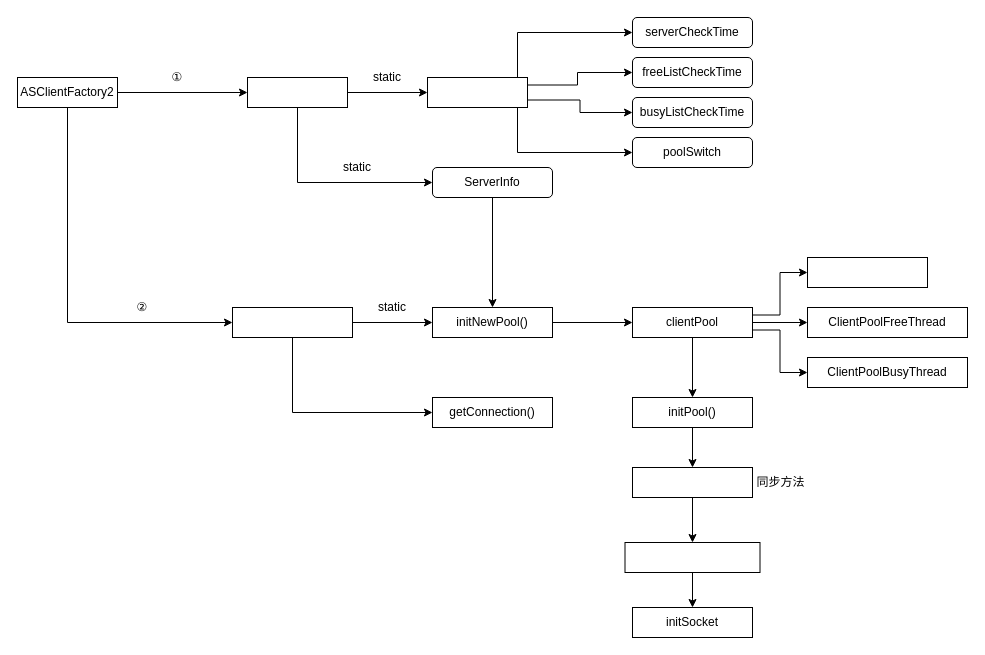
The diagram is 985 pixels wide and 655 high, and some of its shapes have lost their labels. The shapes that lost their labels are listed below. From the top down, each one's centre as x and y in pixels, then its label:
point (297, 92): Configuration
point (477, 92): itemsMap
point (867, 272): ClientPoolThread
point (292, 322): ClientPoolManager
point (692, 482): createASClient
point (692, 557): ASClient2()构造方法
